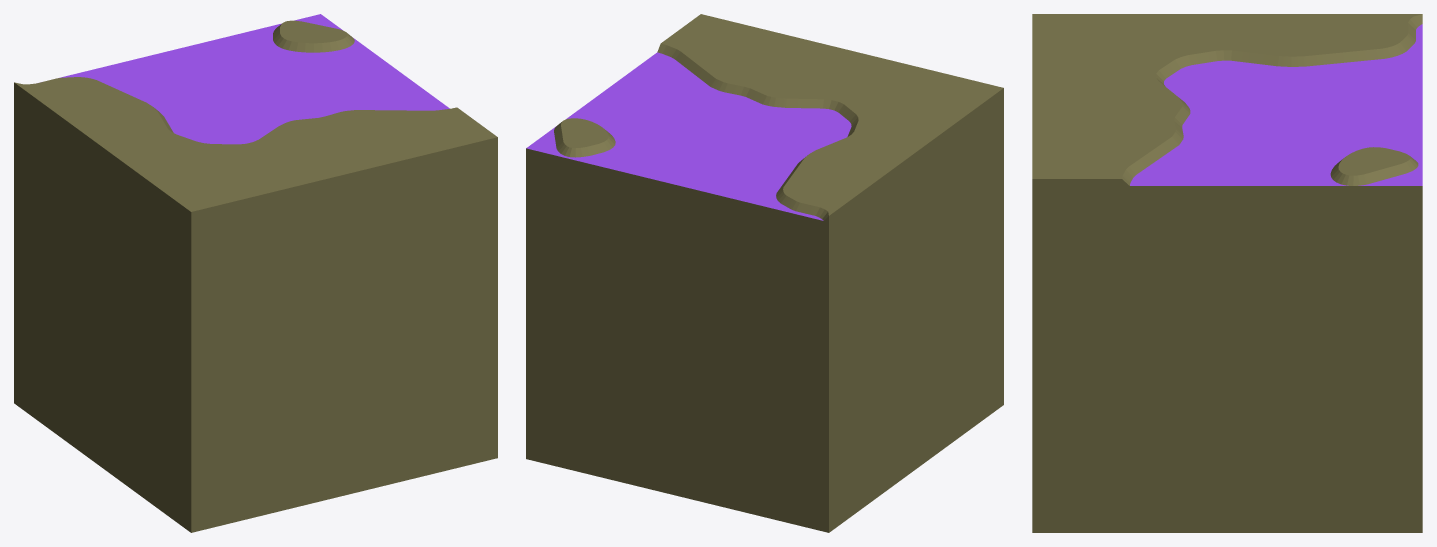
Rendered from tile_toxic_4c_03.fbx.
3 views of the same model, side by side, from view 1: azimuth 30°, elevation 25°; view 2: azimuth 150°, elevation 25°; view 3: azimuth 270°, elevation 25° (orthographic). The views are drawn at different scales.
Parts seen in each view (by area): view 1: tile_toxic_4c_03; view 2: tile_toxic_4c_03; view 3: tile_toxic_4c_03.
Boxes of the visible parts, bbox=[...] form: tile_toxic_4c_03: bbox=[14, 14, 497, 532]; tile_toxic_4c_03: bbox=[526, 14, 1003, 532]; tile_toxic_4c_03: bbox=[1032, 14, 1422, 532].
Bounding box in the file's own units: 100 × 100 × 100.
